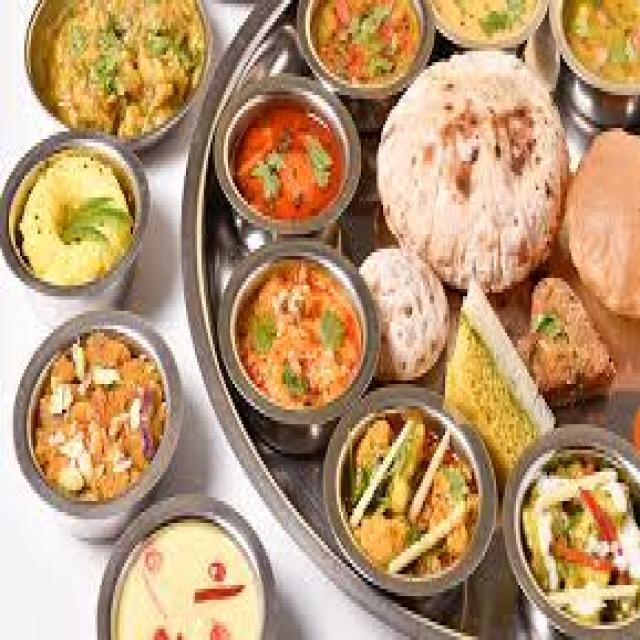dal: (556, 0, 640, 99), (423, 0, 550, 64)
papad: (448, 322, 534, 447)
roti: (380, 56, 563, 294)
sweet: (332, 397, 490, 594), (517, 451, 637, 631), (12, 142, 148, 300), (111, 510, 266, 640), (520, 268, 621, 413)
veg-fry: (324, 397, 491, 596), (227, 245, 375, 427), (28, 0, 198, 156), (225, 80, 356, 249), (304, 0, 425, 101)
